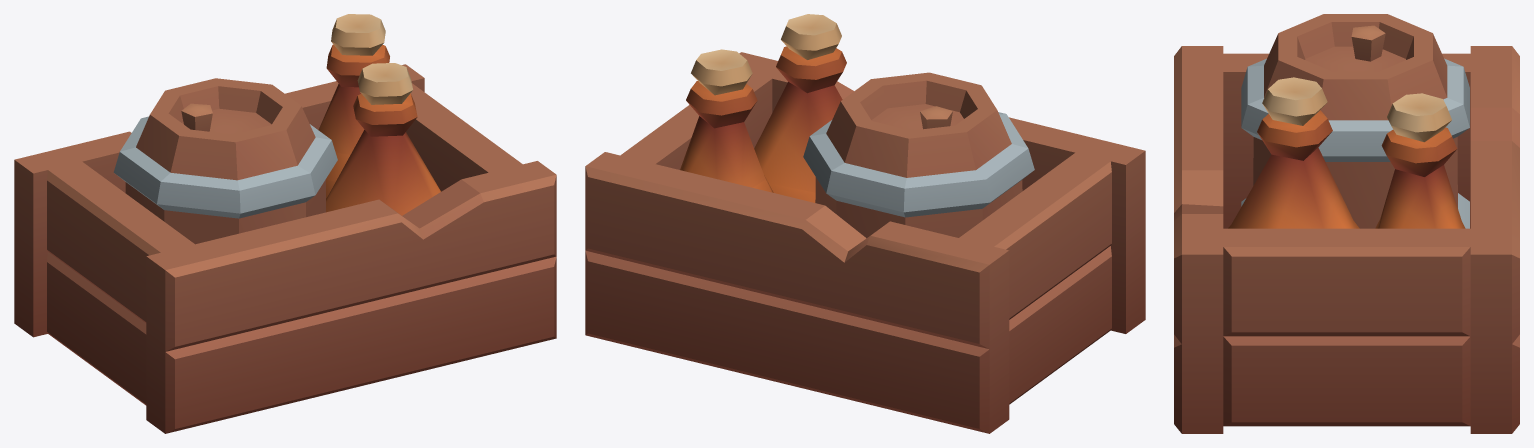
Rendered from crate_large_decorated.glb.
3 views of the same model, side by side, from view 1: azimuth 30°, elevation 25°; view 2: azimuth 150°, elevation 25°; view 3: azimuth 270°, elevation 25° (orthographic). The views are drawn at different scales.
Parts seen in each view (by area): view 1: crate_large_decorated; view 2: crate_large_decorated; view 3: crate_large_decorated.
Part boxes in pixels (<box>): crate_large_decorated: <box>14,14,556,433</box>; crate_large_decorated: <box>585,14,1145,433</box>; crate_large_decorated: <box>1174,14,1519,433</box>.
Size of the model in its own units: 2 by 1.26 by 1.4.
Materials: 1 (1 with a texture image).
